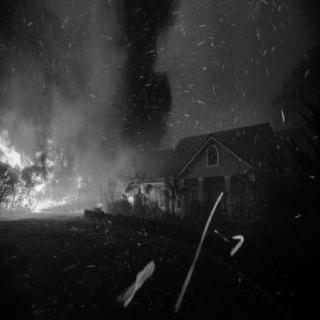Fire: (1, 132, 93, 215)
